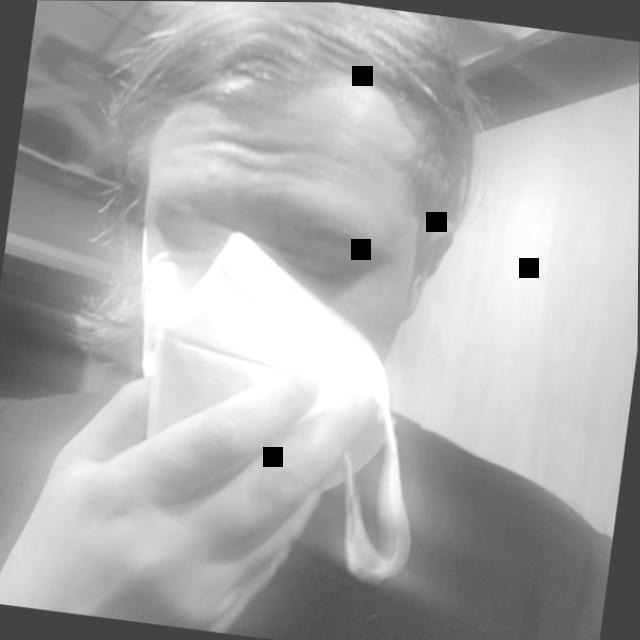Mask: (31, 0, 518, 557)
